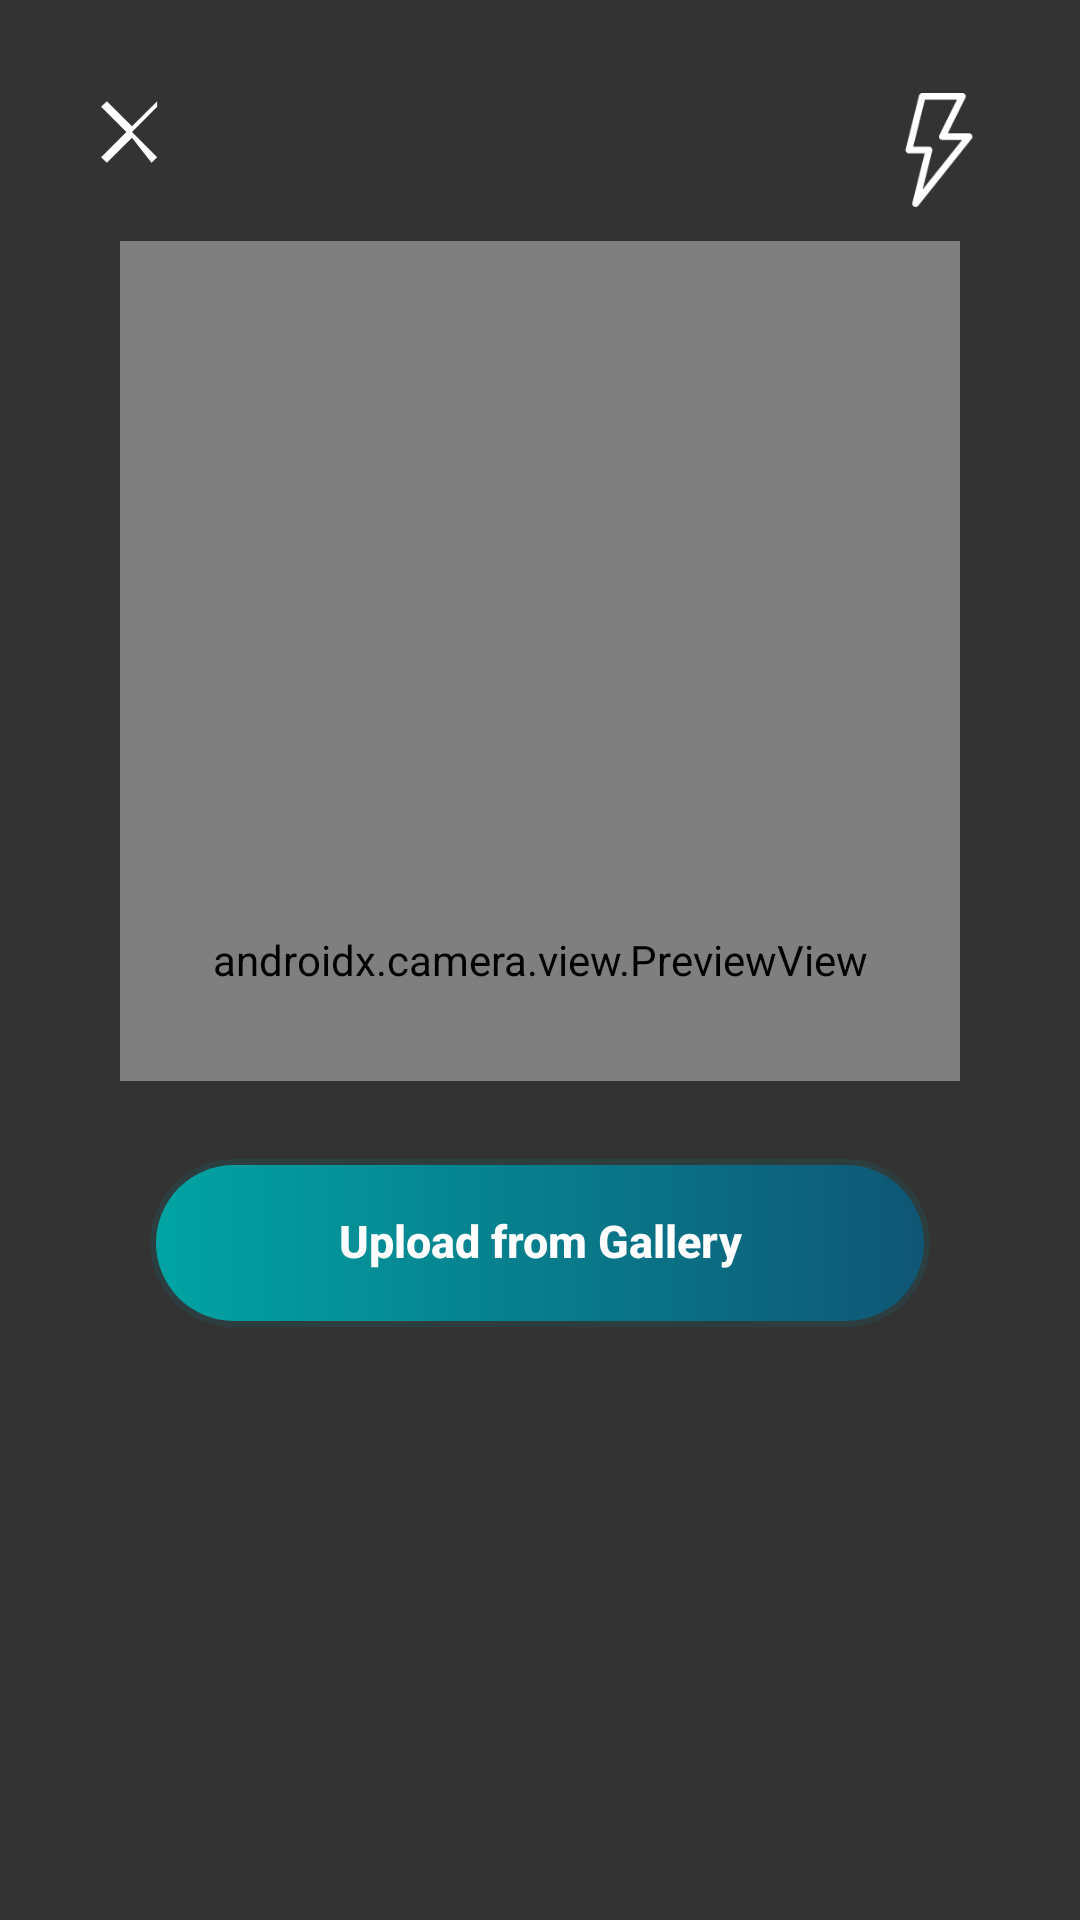

Screen size 1080*1920. Icon name, then its center in pixels as (x,y):
close: (129,132)
flash off: (939,150)
